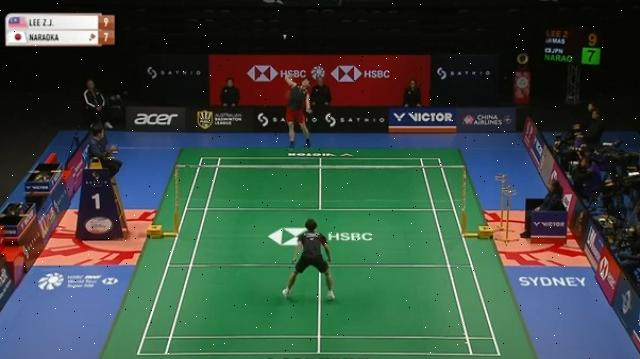Shuttlecock: (282, 30, 288, 40)
